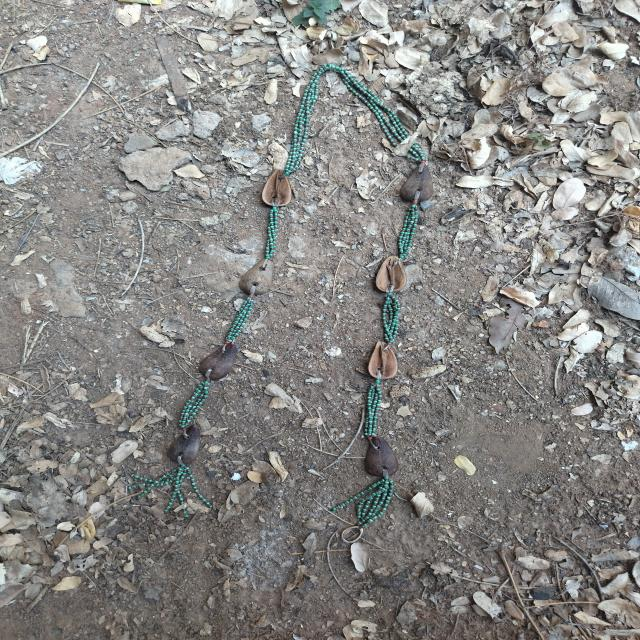facedown: (190, 336, 247, 384), (358, 428, 404, 484), (161, 419, 206, 474), (234, 256, 284, 300), (396, 157, 439, 208)
faceup: (364, 252, 412, 300), (360, 336, 406, 384), (256, 165, 295, 212)
